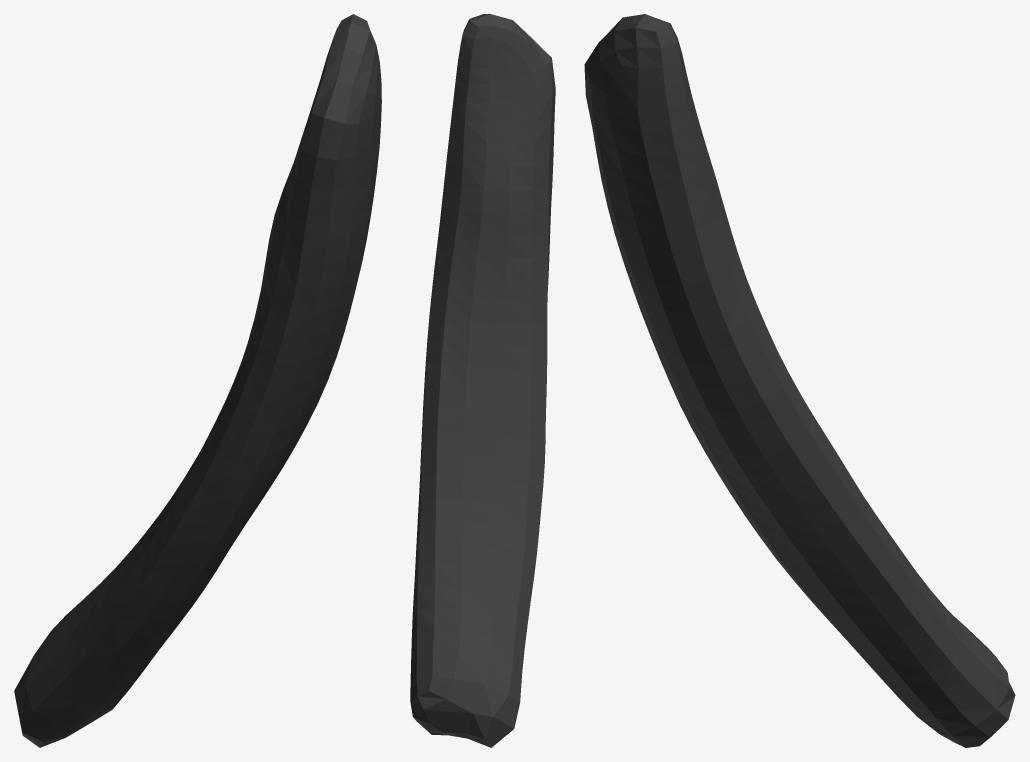
Rendered from Lateral_pat_lig.glb.
3 views of the same model, side by side, from view 1: azimuth 30°, elevation 25°; view 2: azimuth 150°, elevation 25°; view 3: azimuth 270°, elevation 25° (orthographic). The views are drawn at different scales.
Visible parts, largest first — view 1: Lateral_pat_lig; view 2: Lateral_pat_lig; view 3: Lateral_pat_lig.
Part boxes in pixels (x1,y1,x2,y2): Lateral_pat_lig: (14, 14, 381, 747); Lateral_pat_lig: (410, 14, 555, 747); Lateral_pat_lig: (584, 14, 1015, 747).
Size of the model in its own units: 38.17 by 136 by 67.43.
1 material, 1 textured.
